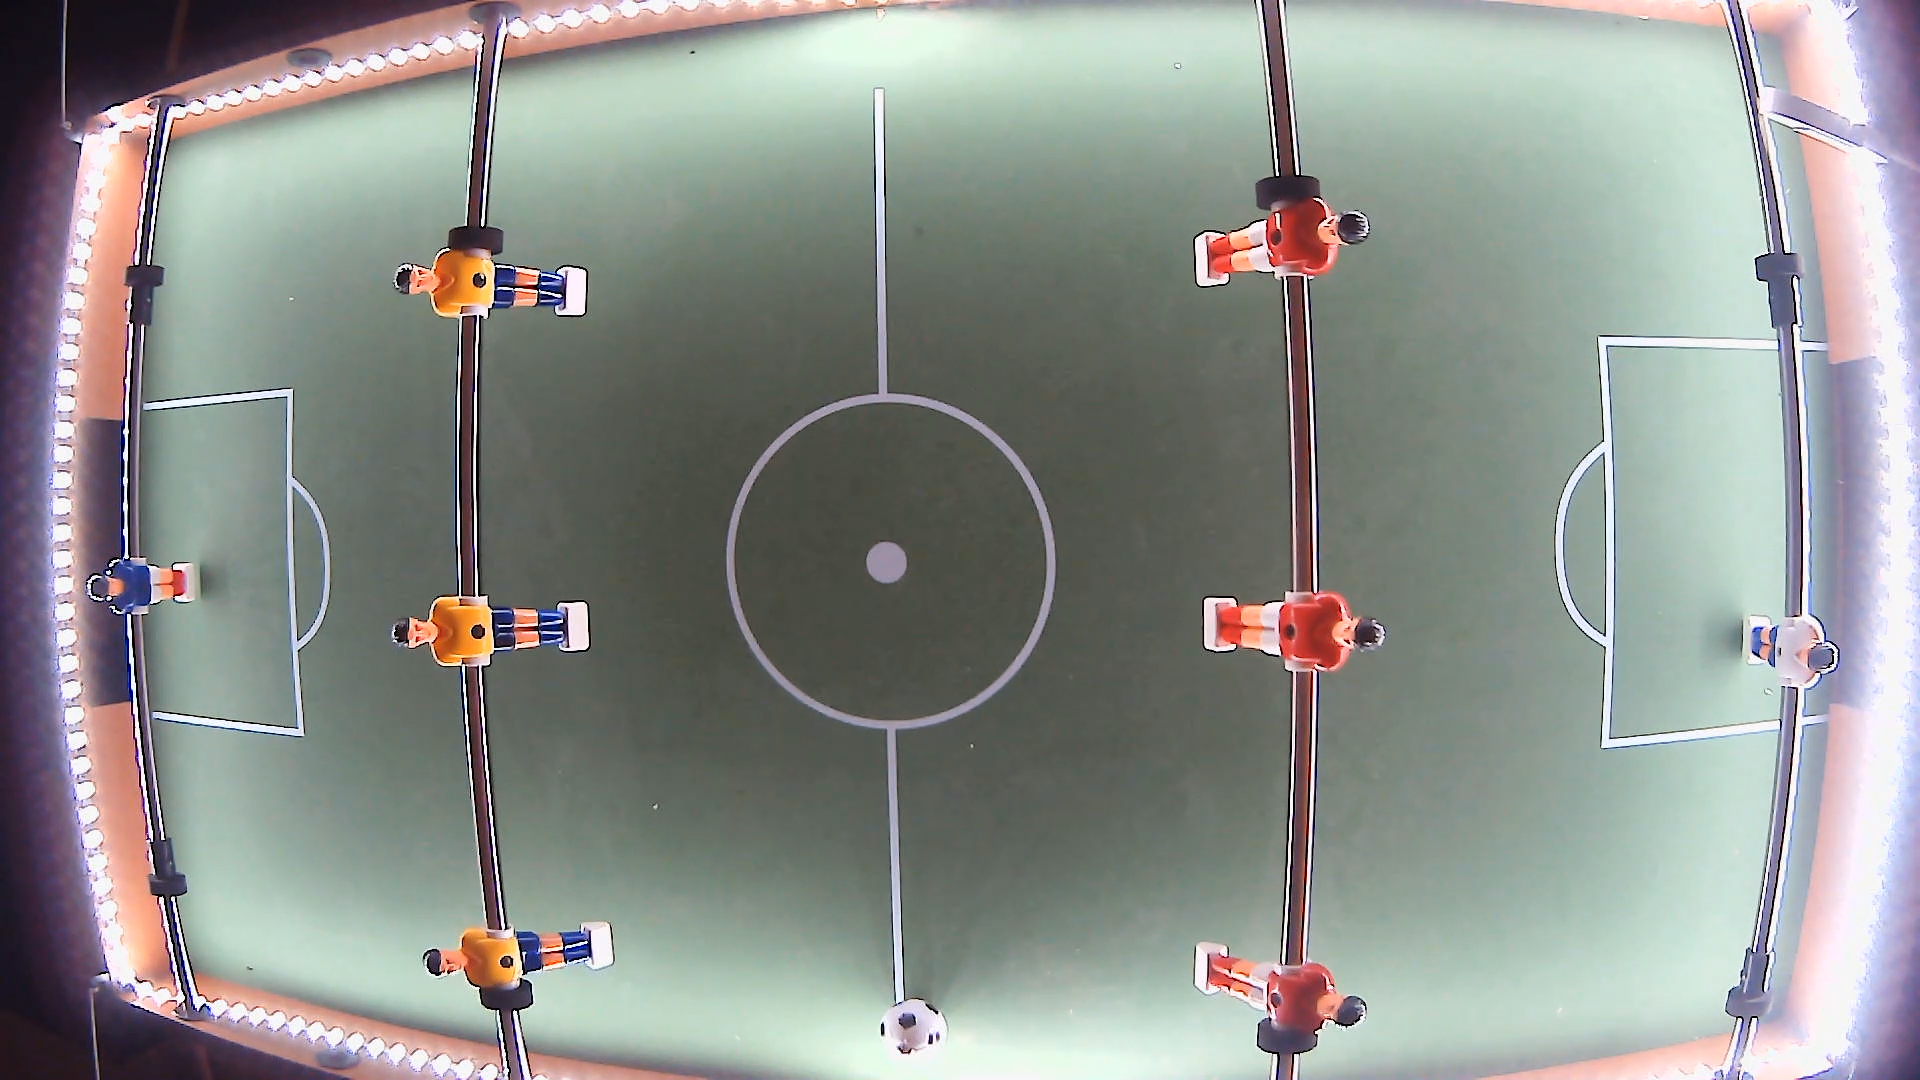Foosball: (880, 997, 948, 1065)
